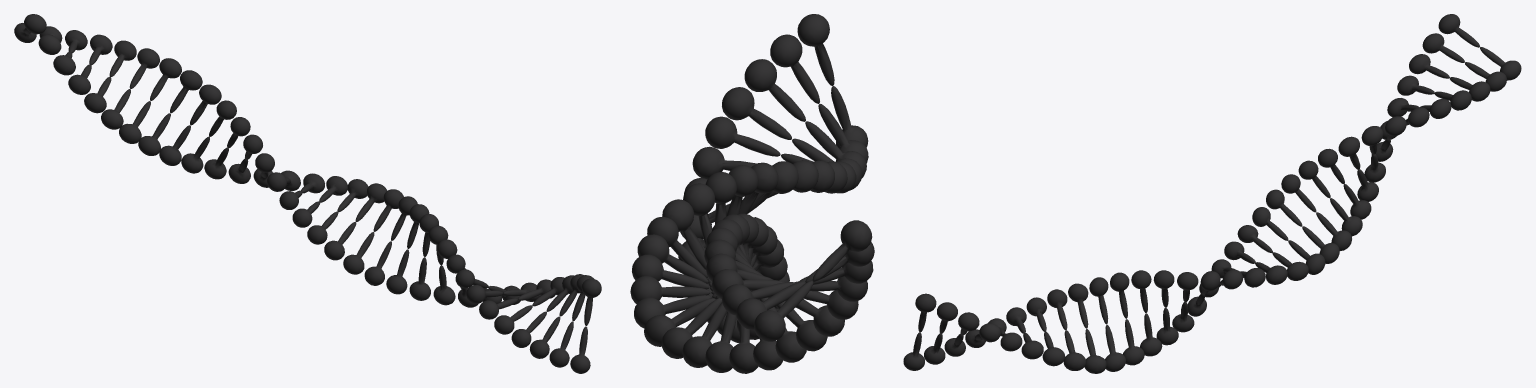
Rendered from dna.glb.
3 views of the same model, side by side, from view 1: azimuth 30°, elevation 25°; view 2: azimuth 150°, elevation 25°; view 3: azimuth 270°, elevation 25° (orthographic). The views are drawn at different scales.
Parts seen in each view (by area): view 1: DNA; view 2: DNA; view 3: DNA.
Boxes of the visible parts, left/top/right/bottom form: DNA: left=14, top=14, right=601, bottom=373; DNA: left=630, top=14, right=874, bottom=373; DNA: left=903, top=14, right=1521, bottom=373.
Size of the model in its own units: 2048 by 1416 by 3460.
1 material, 1 textured.
